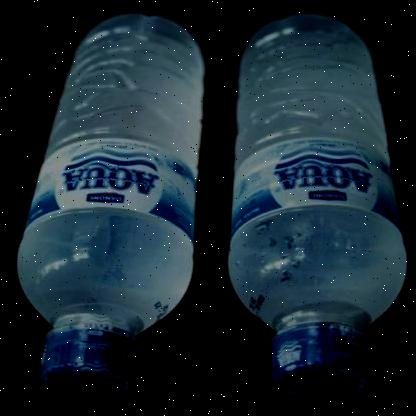Plastic Bottle: (15, 12, 203, 397), (226, 12, 406, 396)
